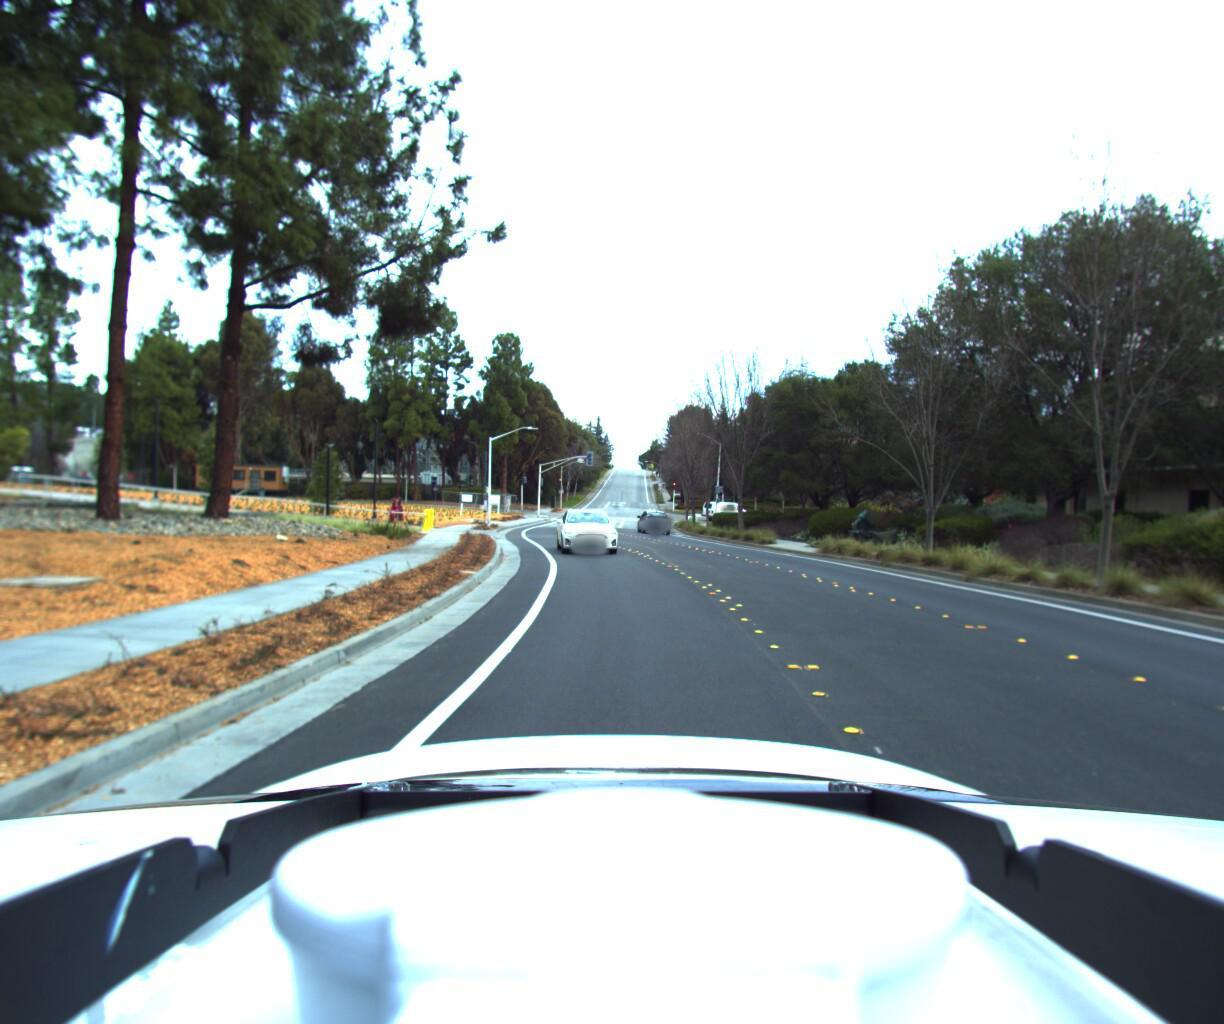car: (551, 502, 624, 557), (701, 498, 754, 520), (640, 509, 674, 536)
